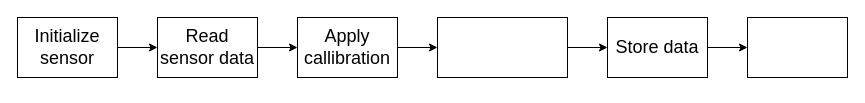
Some shapes in this 865 by 103 pixel diagram are drawn without their labels. Each missing label, with the box of its shape:
Process measurement: (436, 16, 568, 78)
Transmit data: (746, 16, 848, 78)
